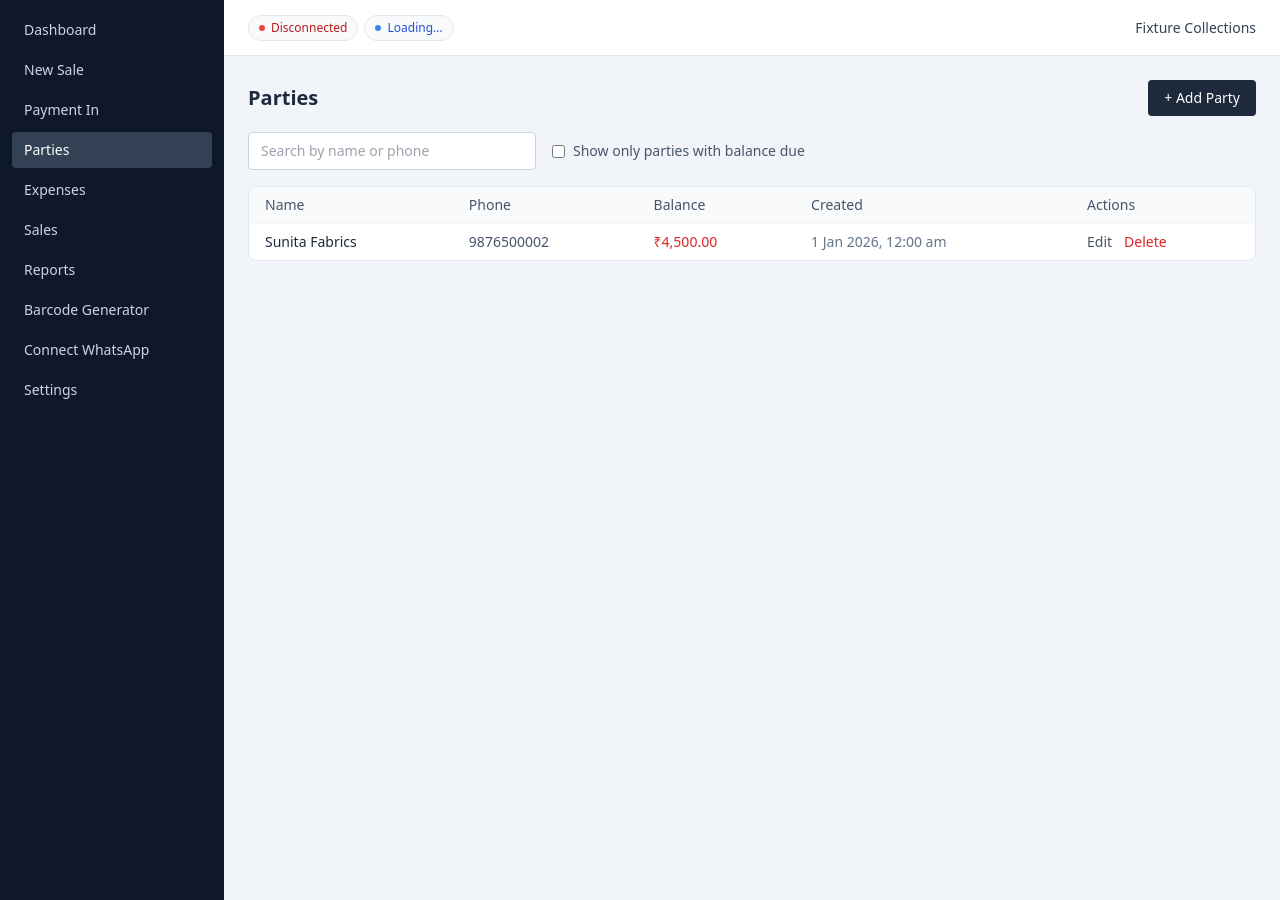
Scenario: open screens, with the Owner password on every edit and delete › an edit or delete › says how long to wait when the throttle asks it to
The image size is (1280, 900).
Expected: the link "New Sale" is shown, x1=24 y1=60 x2=84 y2=79
Expected: the text "Sunita Fabrics" is shown, x1=249 y1=224 x2=453 y2=260
Click the button "Delete" at (1145, 242), box x1=1124 y1=232 x2=1167 y2=252
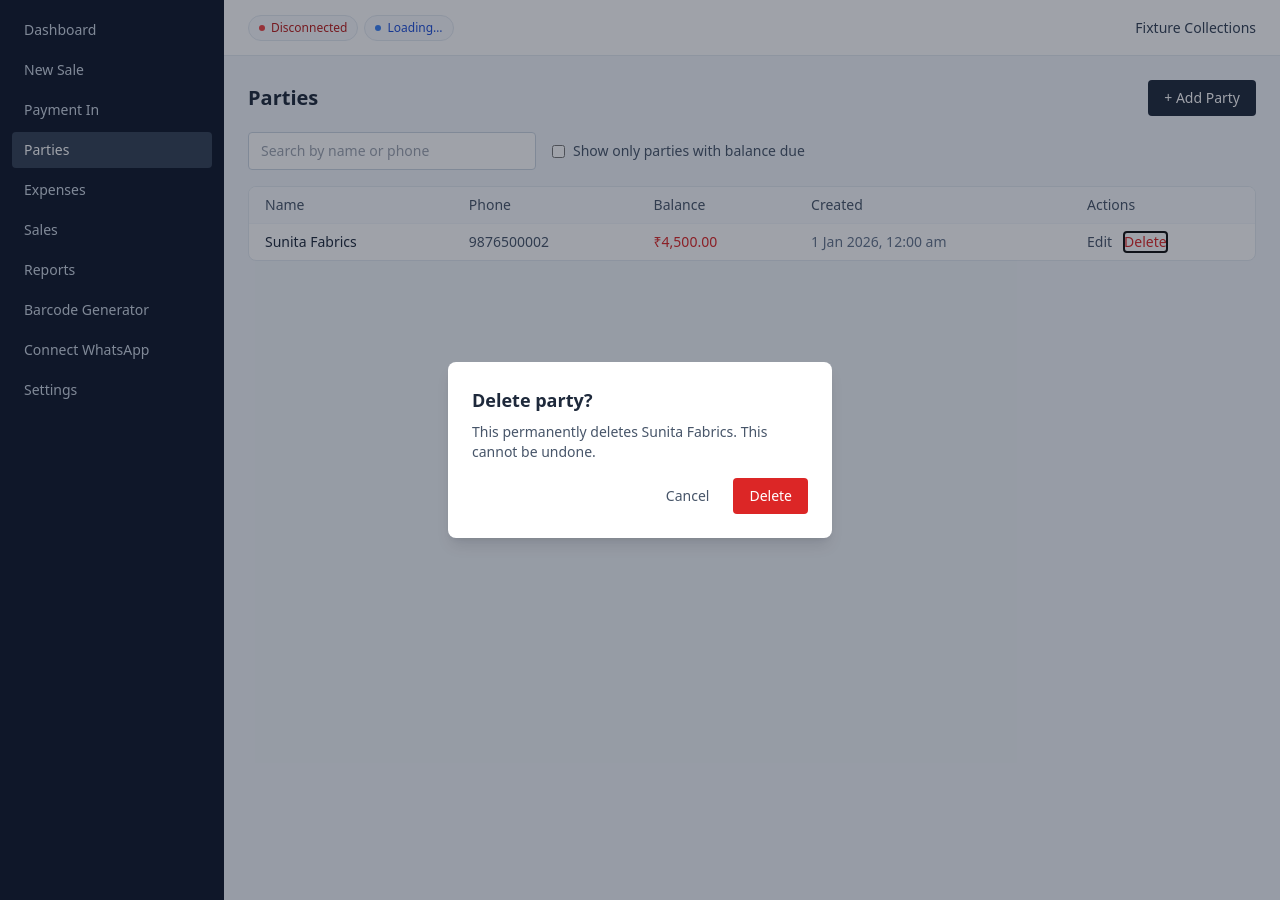
Click the button "Delete" at (771, 496), box x1=733 y1=478 x2=808 y2=514
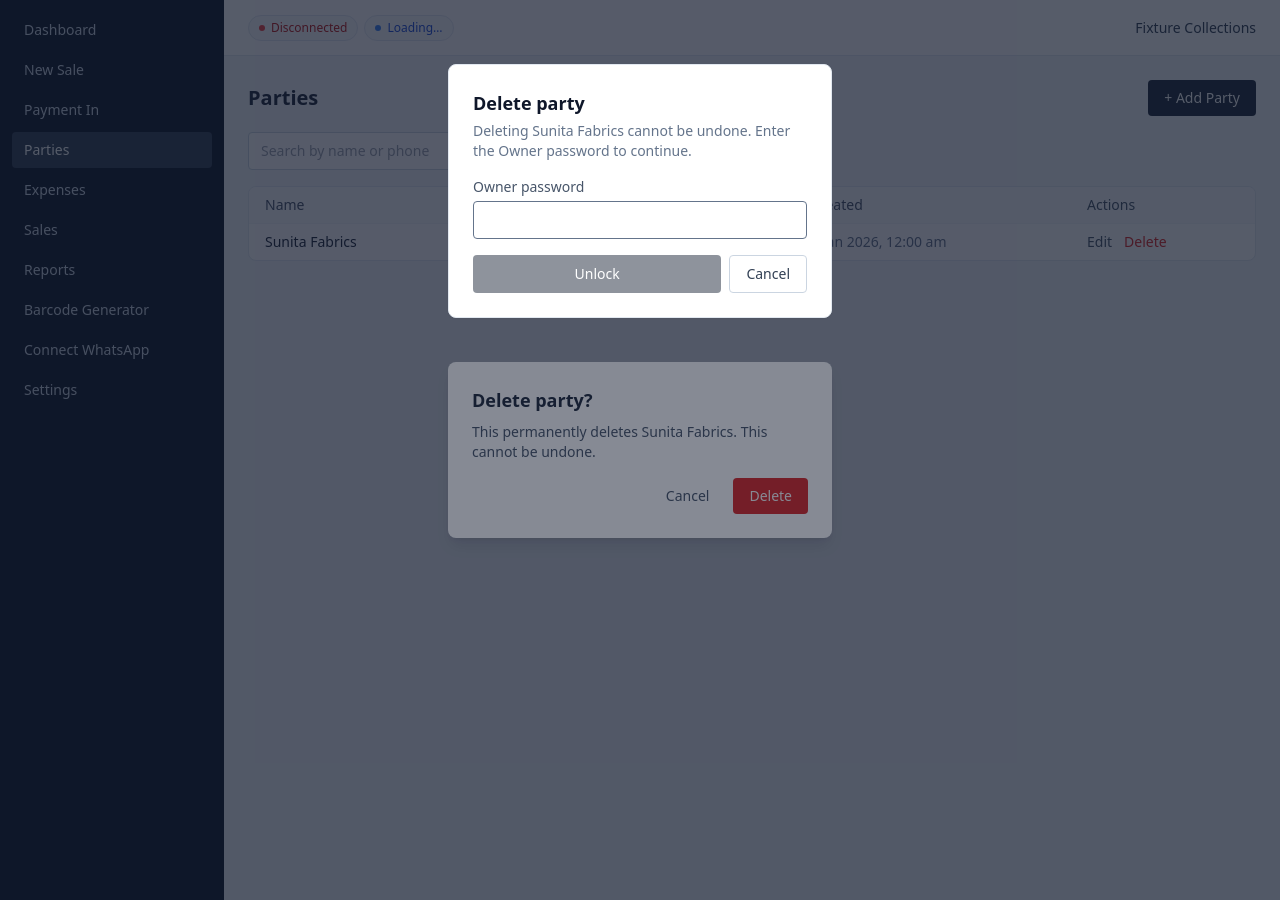
Type "wrong" into the password field labelled "Owner password" at (640, 220), box x1=473 y1=201 x2=807 y2=239
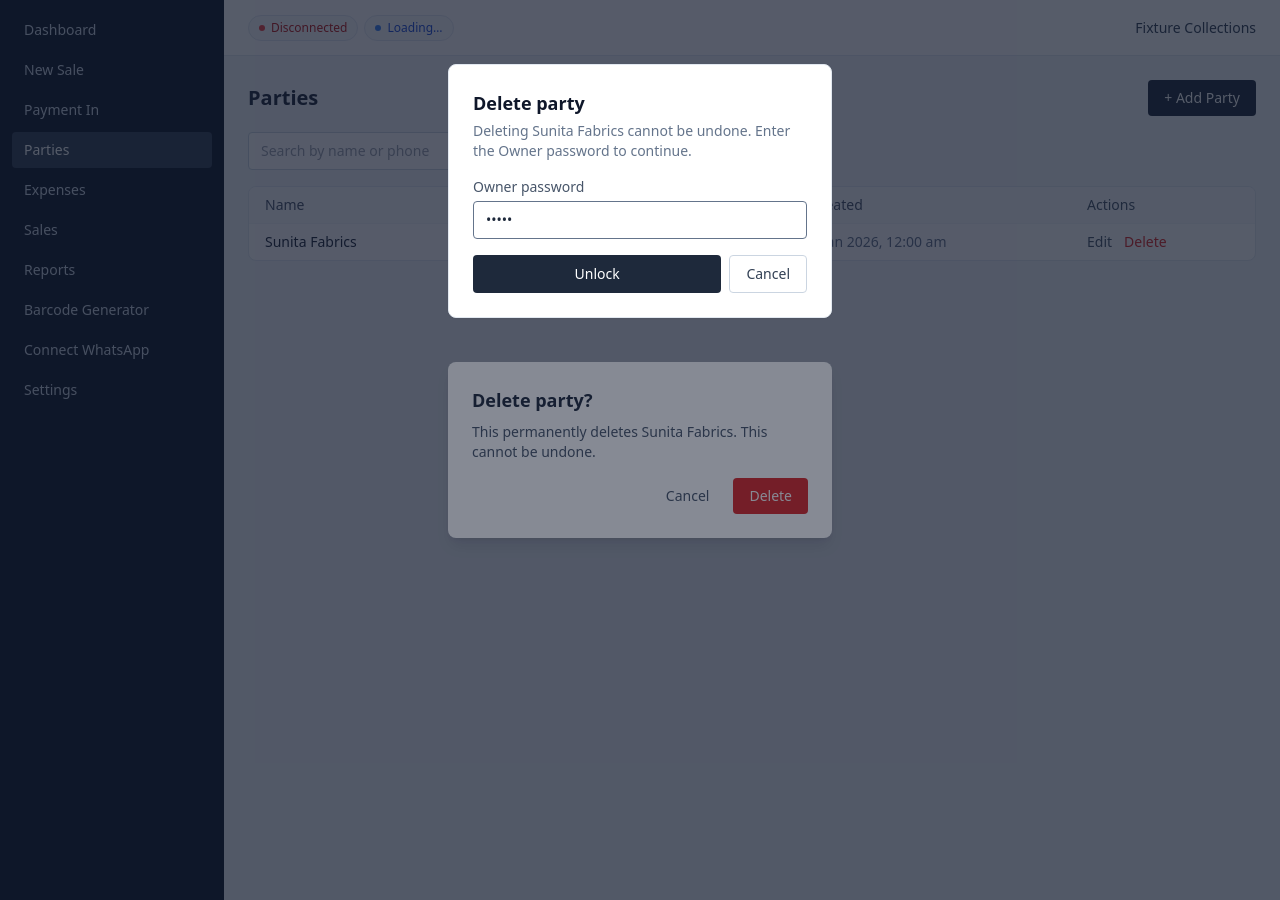
Click the button "Unlock" at (597, 274), box x1=473 y1=255 x2=721 y2=293
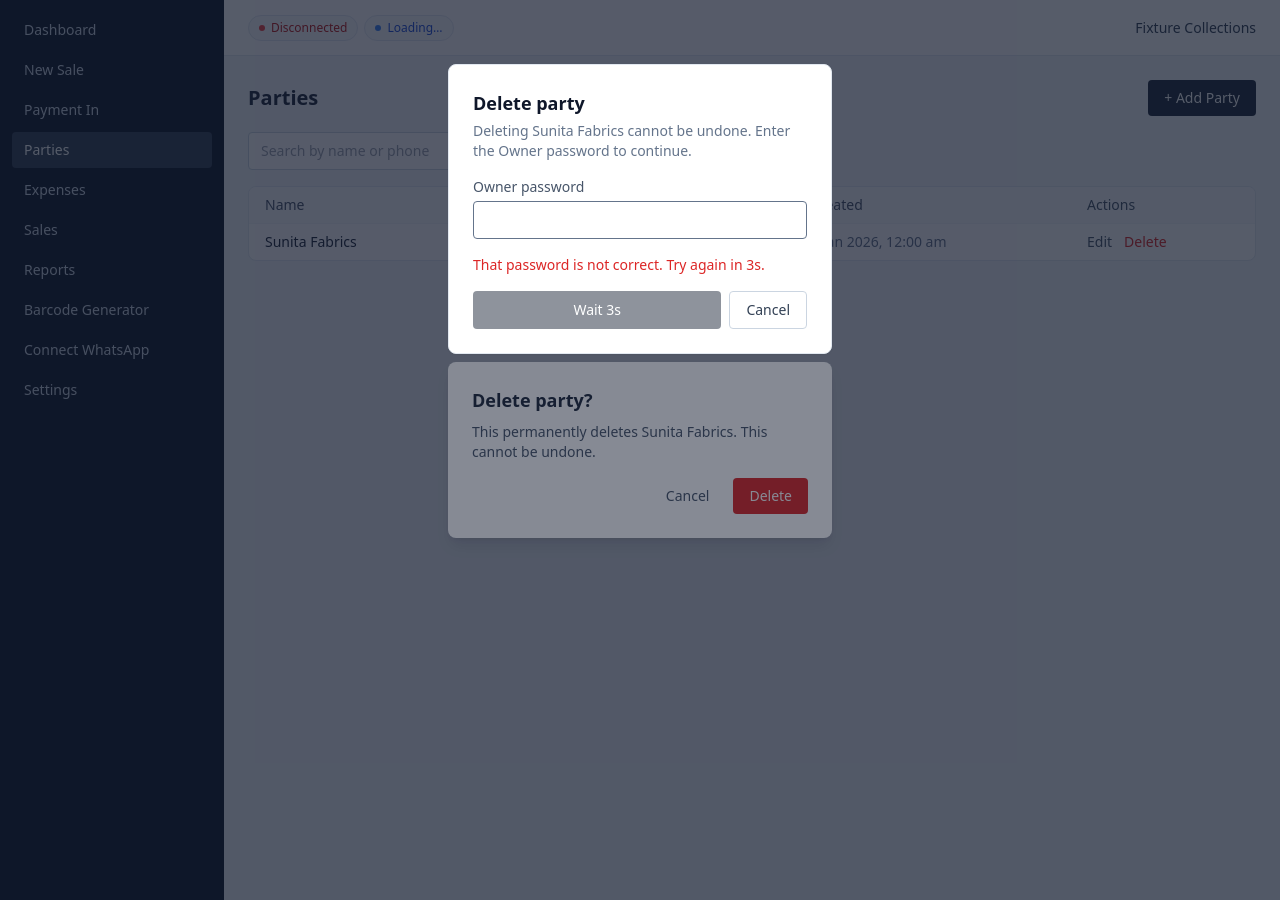
Result: the button "Wait 3s" is disabled at x1=473 y1=291 x2=721 y2=329
